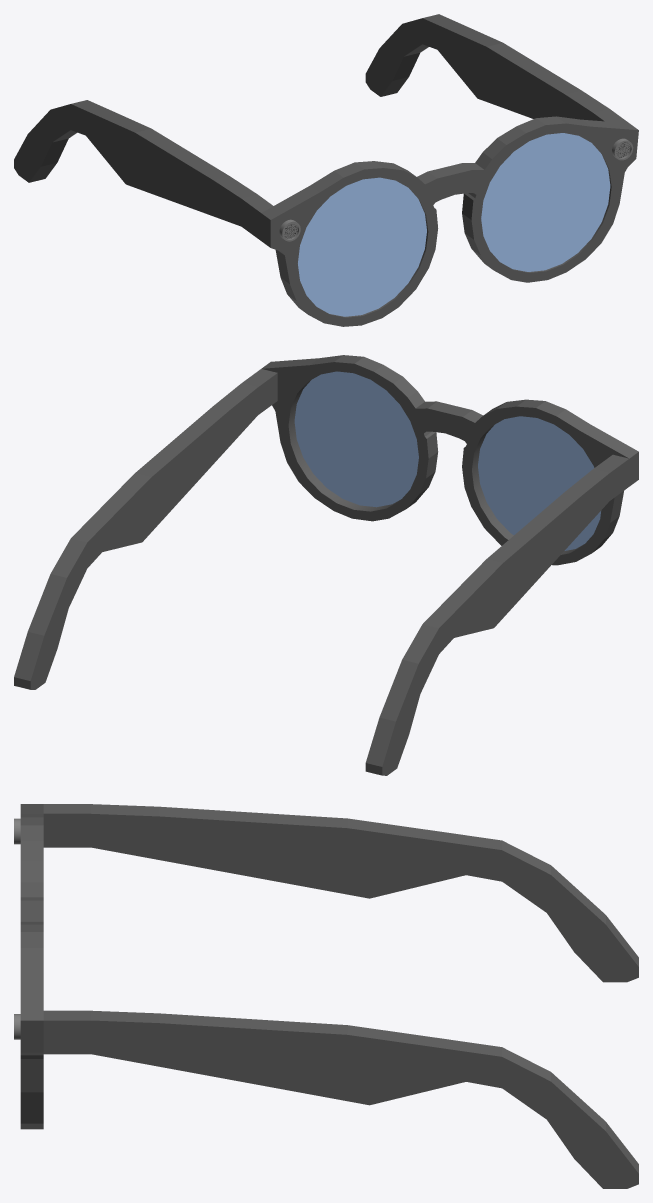
Rendered from raybans.glb.
3 views of the same model, one above another, from view 1: azimuth 30°, elevation 25°; view 2: azimuth 150°, elevation 25°; view 3: azimuth 270°, elevation 25° (orthographic). The views are drawn at different scales.
Parts seen in each view (by area): view 1: group_0, group_2, group_1, group_4, group_5; view 2: group_4, group_5, group_0, group_2, group_1, group_0.001, group_0.002; view 3: group_5, group_4, group_0.
Part boxes in pixels (x1=…): group_0: x1=261, y1=116, x2=638, y2=326; group_2: x1=481, y1=133, x2=610, y2=271; group_1: x1=298, y1=177, x2=426, y2=316; group_4: x1=14, y1=100, x2=272, y2=240; group_5: x1=365, y1=14, x2=628, y2=123; group_4: x1=365, y1=454, x2=629, y2=775; group_5: x1=14, y1=369, x2=277, y2=689; group_0: x1=261, y1=355, x2=638, y2=565; group_2: x1=294, y1=371, x2=418, y2=507; group_1: x1=478, y1=416, x2=600, y2=550; group_0.001: x1=288, y1=380, x2=401, y2=511; group_0.002: x1=472, y1=425, x2=584, y2=554; group_5: x1=43, y1=1010, x2=638, y2=1188; group_4: x1=43, y1=804, x2=638, y2=982; group_0: x1=20, y1=804, x2=43, y2=1129.
Bounding box in the file's own units: 0.5644 × 0.2456 × 0.6888.
